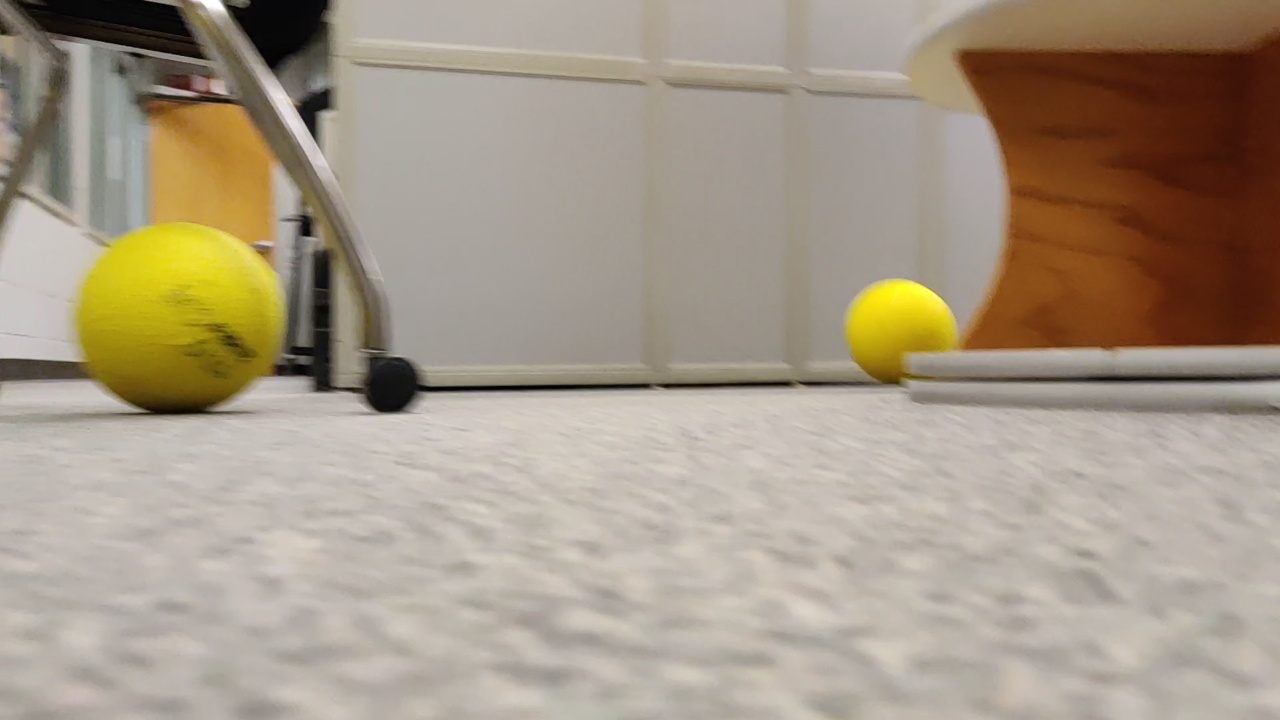Ball: (73, 222, 282, 415), (847, 281, 951, 383)
